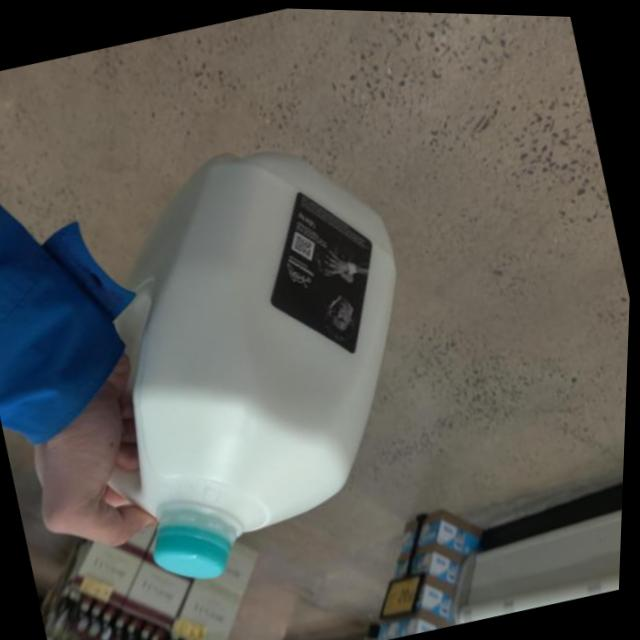Milk: (4, 85, 519, 616)
